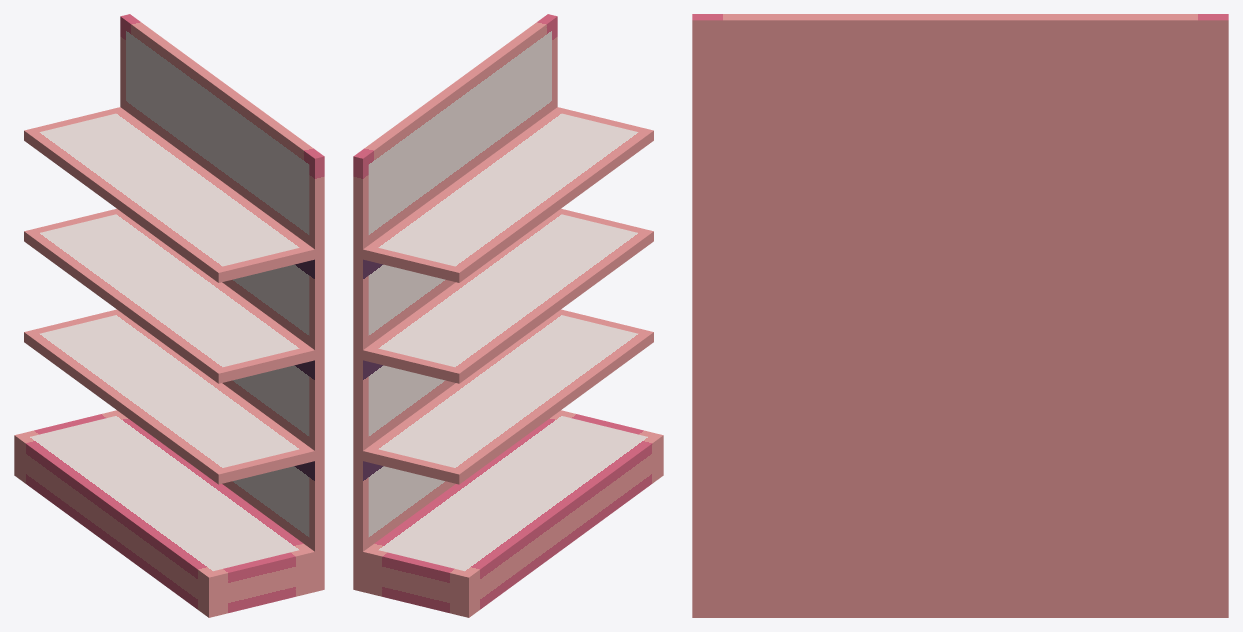
The model's file is racking.gltf.
3 renders of one model, left to right at view 1: azimuth 30°, elevation 25°; view 2: azimuth 150°, elevation 25°; view 3: azimuth 270°, elevation 25°, orthographic. The views are drawn at different scales.
Parts seen in each view (by area): view 1: cuboid; view 2: cuboid; view 3: cuboid.
Part boxes in pixels (x1,y1,x2,y2): cuboid: (14,14,324,617); cuboid: (353,14,663,617); cuboid: (692,14,1228,617).
Bounding box in the file's own units: 0.75 × 2.69 × 2.19.
Materials: 1 (1 with a texture image).
